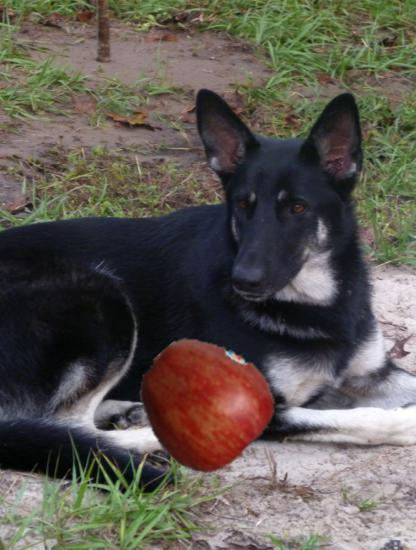Apple: (138, 335, 273, 470)
